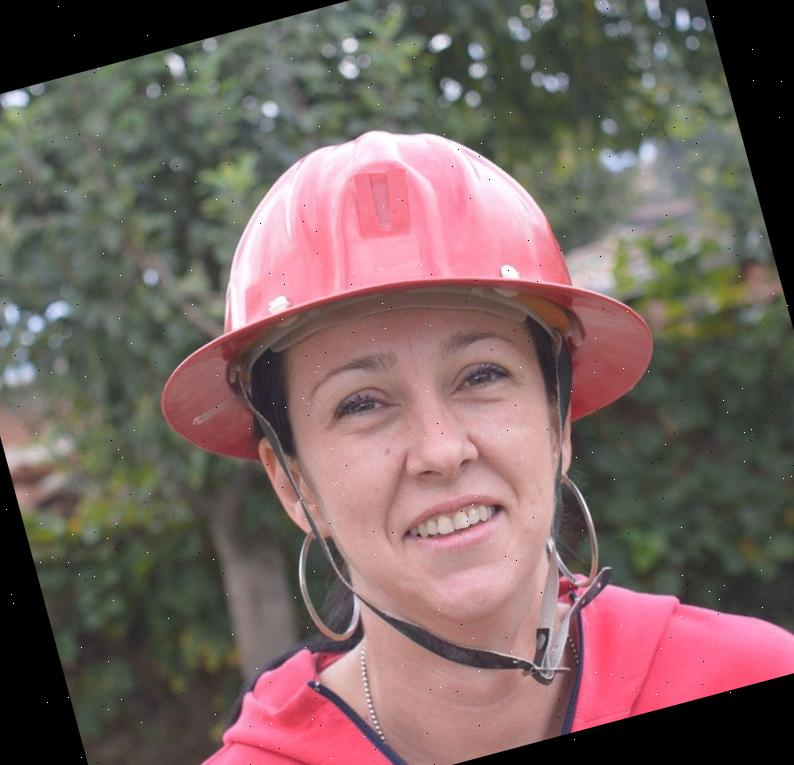helmet: (101, 75, 663, 529)
